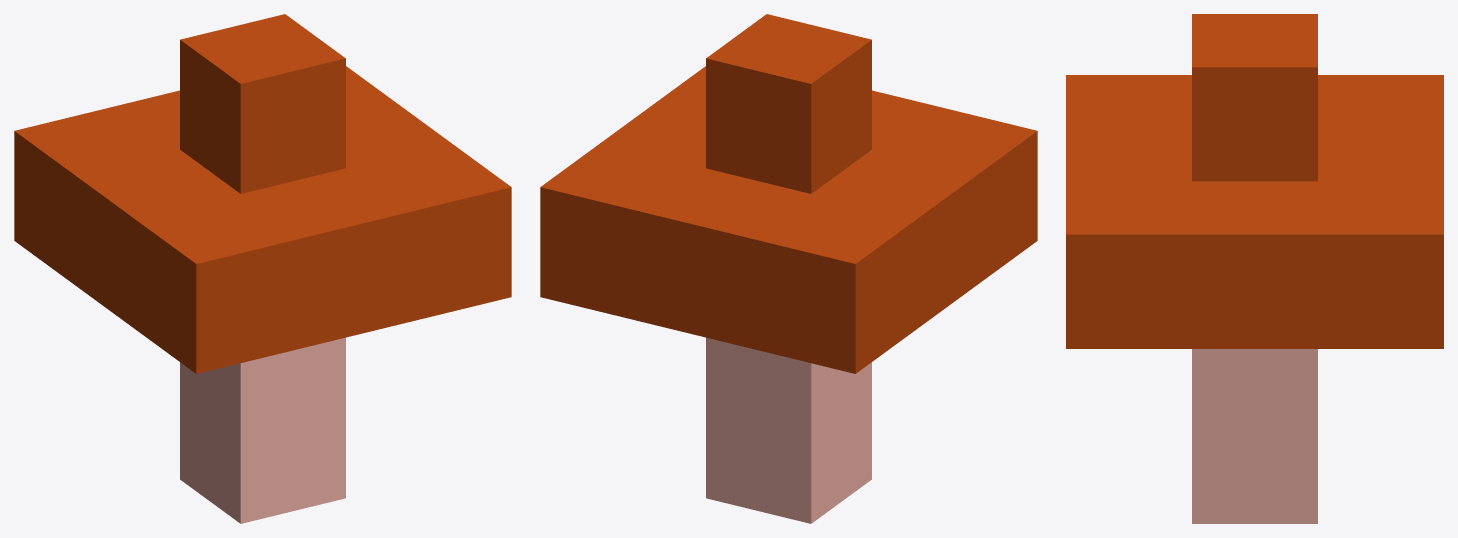
3 renders of one model, left to right at view 1: azimuth 30°, elevation 25°; view 2: azimuth 150°, elevation 25°; view 3: azimuth 270°, elevation 25°, orthographic. The views are drawn at different scales.
Visible parts, largest first — view 1: Matrix_1; view 2: Matrix_1; view 3: Matrix_1.
Boxes of the visible parts, bbox=[...] form: Matrix_1: bbox=[14, 14, 511, 523]; Matrix_1: bbox=[540, 14, 1037, 523]; Matrix_1: bbox=[1066, 14, 1443, 523].
Bounding box in the file's own units: 3 × 4 × 3.
Materials: 1 (1 with a texture image).
